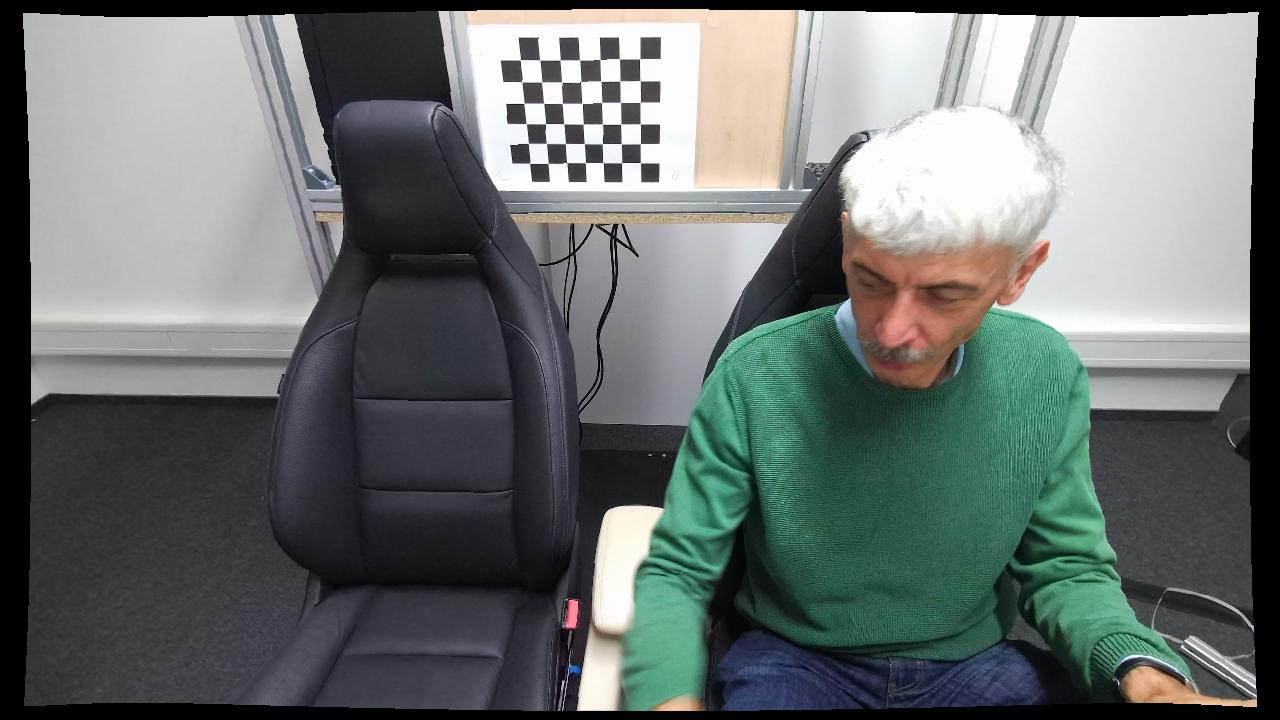Distracted: (613, 104, 1098, 710)
